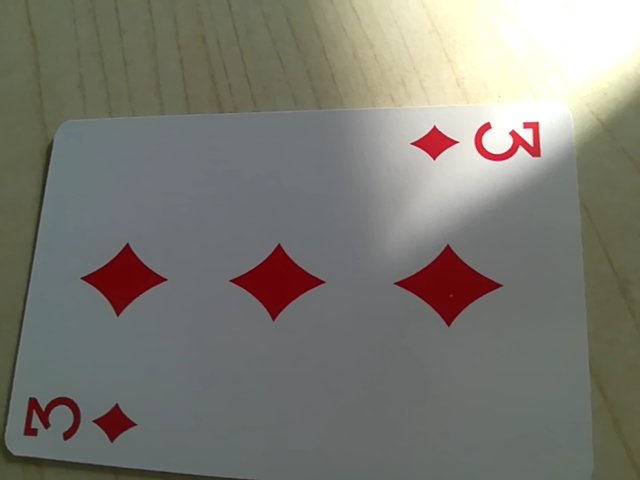fk 3: (12, 379, 139, 457), (403, 113, 551, 173)
